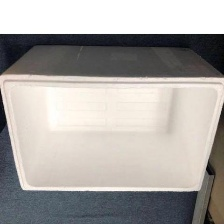foam_box: (0, 40, 224, 196)
